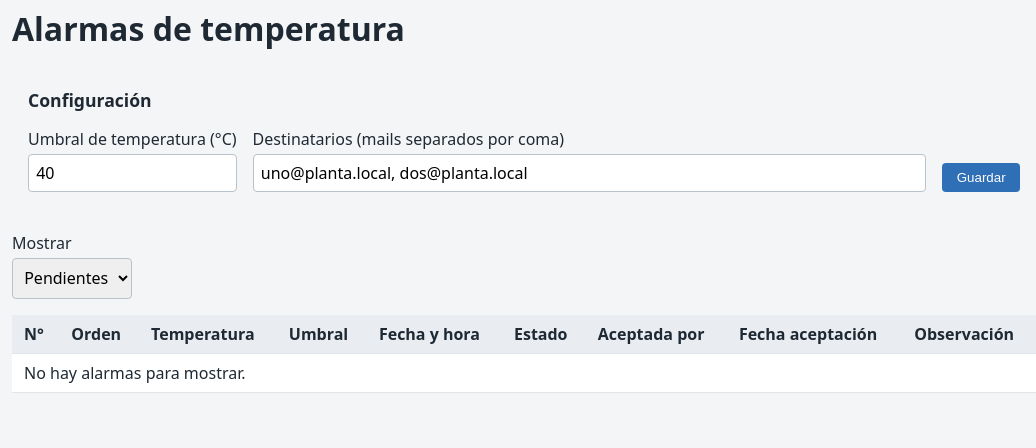
el admin ve la configuracion actual y puede guardarla
The image size is (1036, 448).
expect the field labelled "Destinatarios (mails separados por coma)" holds "uno@planta.local, dos@planta.local": met, box [253, 154, 926, 192]
Replace the text in the number field labelled "Umbral de temperatura (°C)" with "55.5" at [132, 173], box [28, 154, 237, 192]
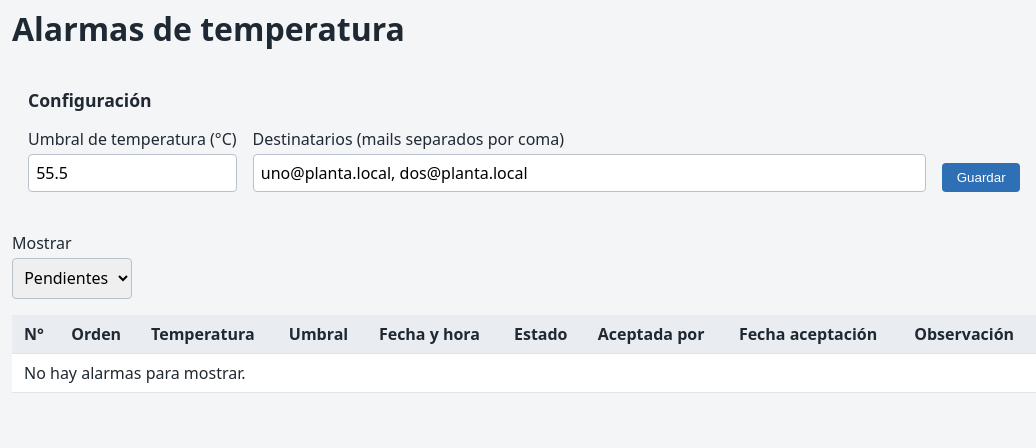
Replace the text in the field labelled "Destinatarios (mails separados por coma)" with "nuevo@planta.local, otro@planta.local" at [589, 173], box [253, 154, 926, 192]
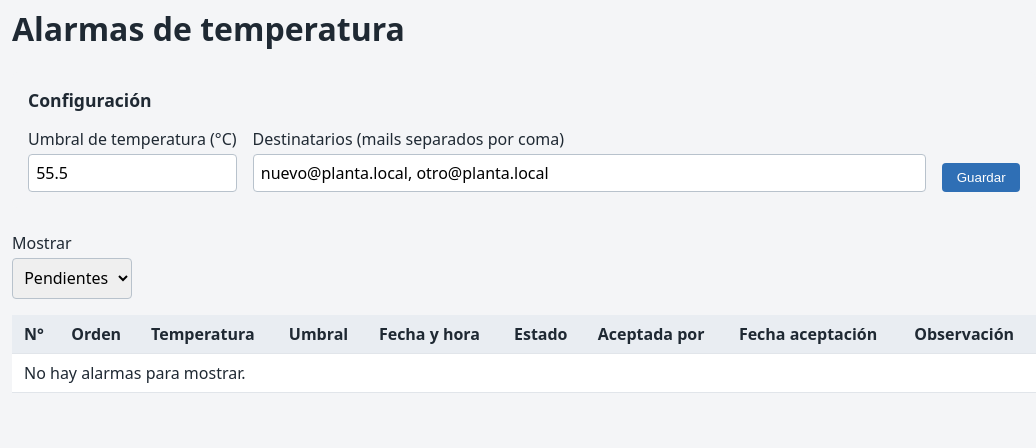
Submit the form with class "config", box [12, 72, 1035, 208]
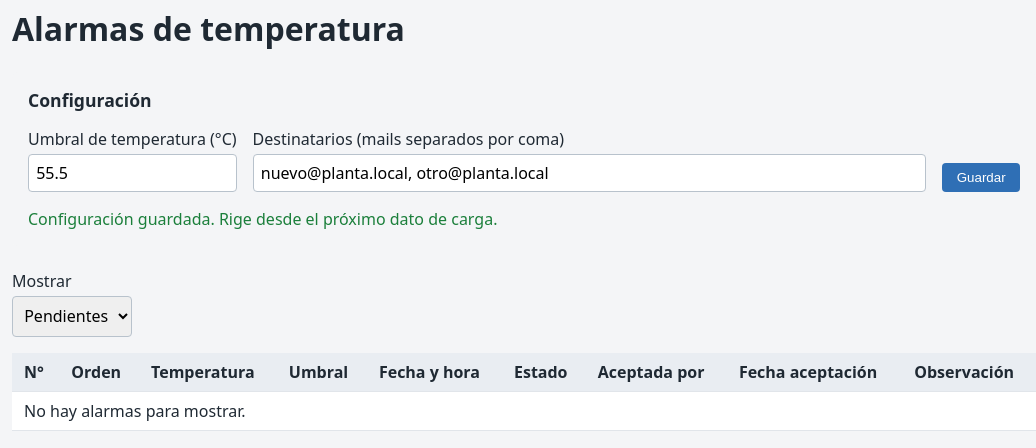
expect the text "Configuración guardada" is shown: met, box [28, 208, 497, 230]
